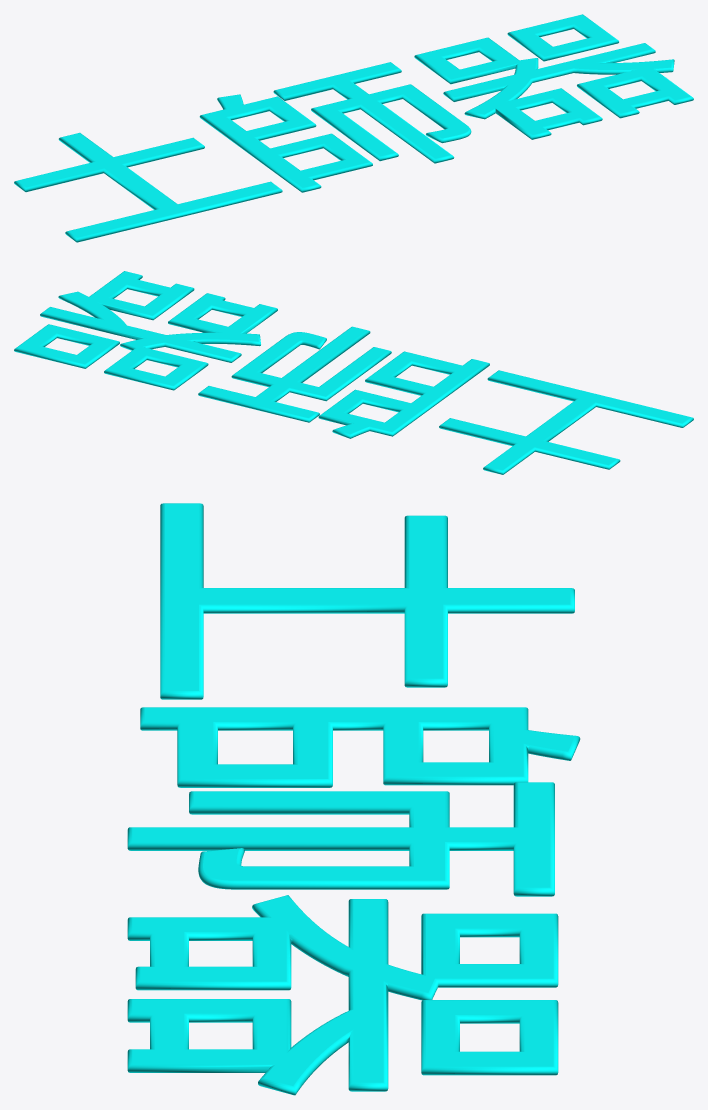
The picture shows the model from 3 angles, top to bottom: view 1: azimuth 30°, elevation 25°; view 2: azimuth 150°, elevation 25°; view 3: azimuth 270°, elevation 25°; orthographic projection. The views are drawn at different scales.
Parts seen in each view (by area): view 1: テキスト; view 2: テキスト; view 3: テキスト.
Boxes of the visible parts, x1=… form: テキスト: x1=14, y1=14, x2=693, y2=242; テキスト: x1=14, y1=271, x2=693, y2=474; テキスト: x1=127, y1=503, x2=580, y2=1095.
Bounding box in the file's own units: 2.98 × 0.02 × 0.9722.
